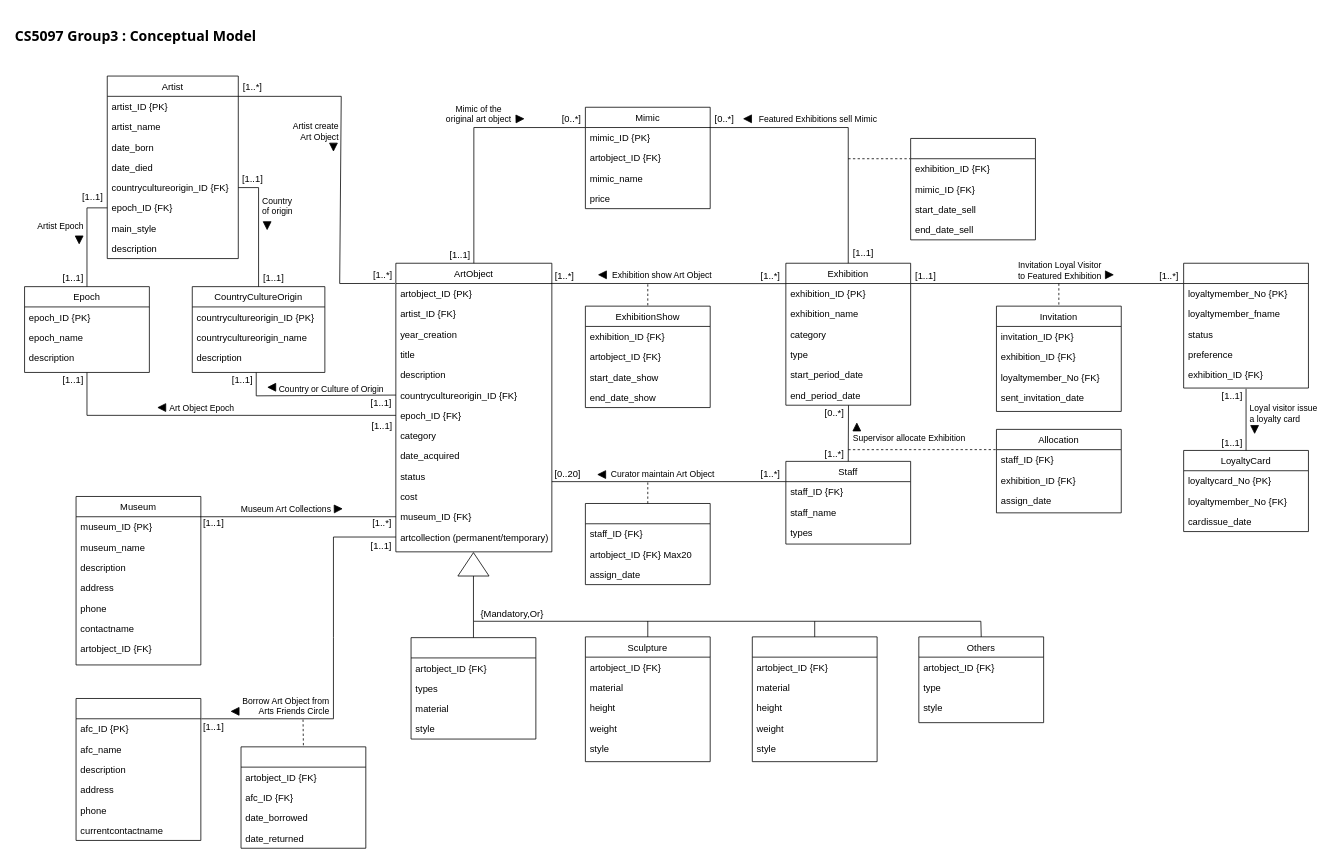
This 1331x863 diagram has some shape labels left out. The box of each missing label's shape, as (x1, y1, x2, y2) in pixels:
ArtsFriendsCircle: (75, 698, 201, 840)
BorrowFromAFC: (240, 746, 366, 848)
ExhibitionSell: (910, 138, 1035, 240)
LoyalVisitor: (1183, 262, 1308, 388)
Maintainance: (585, 503, 710, 585)
Painting: (410, 637, 536, 739)
Statue: (752, 636, 877, 762)
